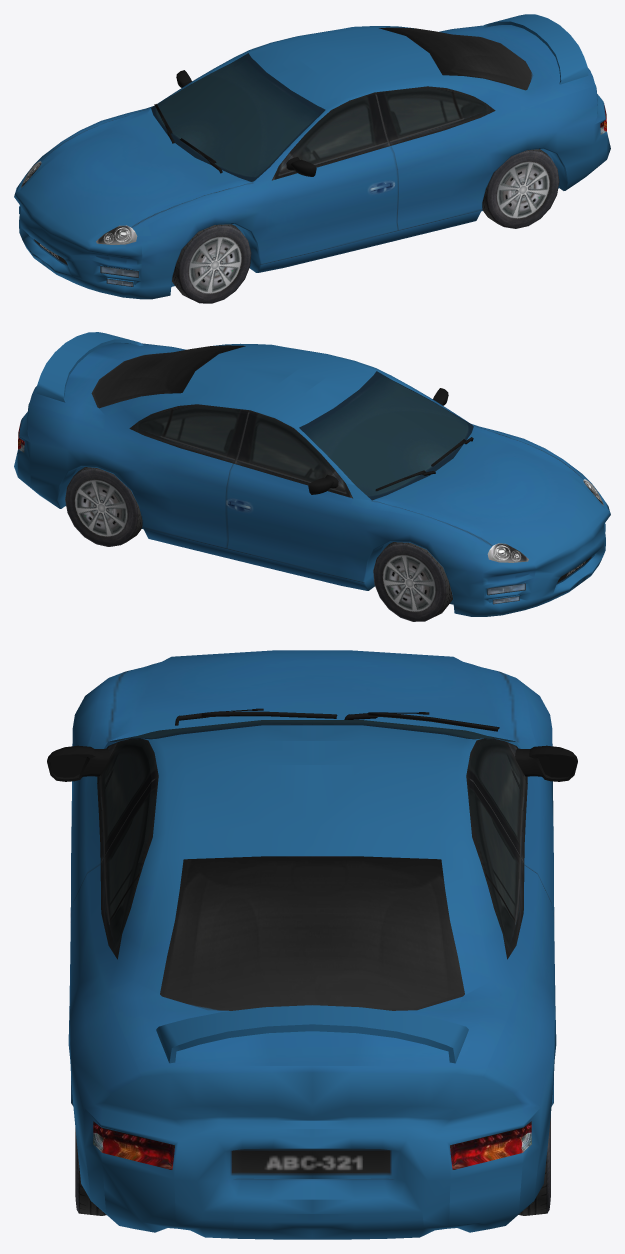
Rendered from Sample_Car.glb.
The picture shows the model from 3 angles, top to bottom: view 1: azimuth 30°, elevation 25°; view 2: azimuth 150°, elevation 25°; view 3: azimuth 270°, elevation 25°; orthographic projection. The views are drawn at different scales.
Parts seen in each view (by area): view 1: SM_Prop_bluecar_body; view 2: SM_Prop_bluecar_body; view 3: SM_Prop_bluecar_body.
Part boxes in pixels (box(x1,y1,x2,y2)): SM_Prop_bluecar_body: box(14, 14, 610, 303); SM_Prop_bluecar_body: box(14, 332, 610, 621); SM_Prop_bluecar_body: box(47, 650, 577, 1239).
Bounding box in the file's own units: 1.1 × 0.3095 × 0.4689.
1 material, 1 textured.
